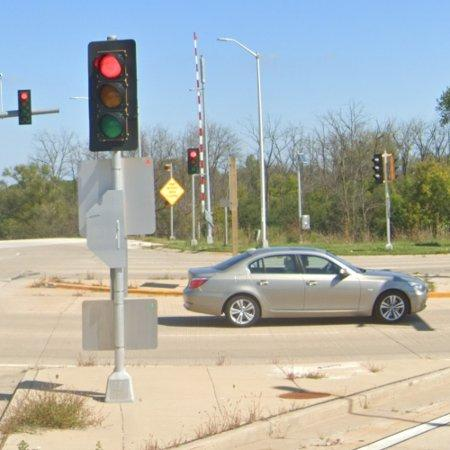traffic lights: (89, 40, 138, 150)
